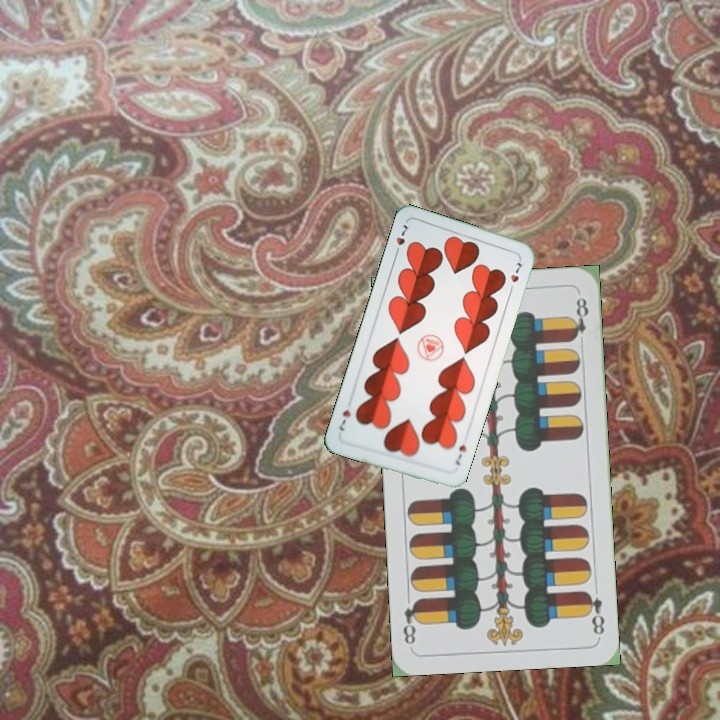E8: (581, 587, 607, 637)
H7: (391, 220, 411, 258), (451, 440, 469, 468)
